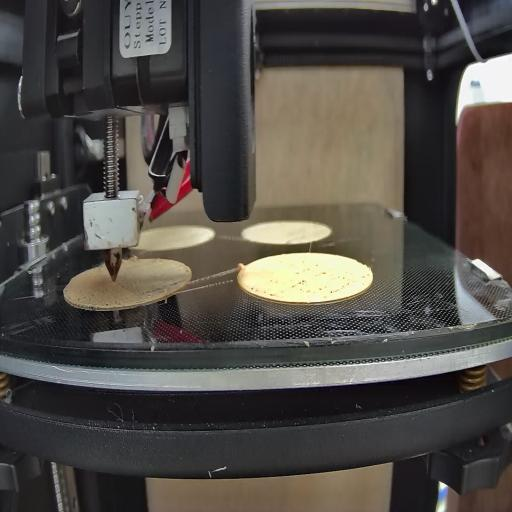under_extrusion: (290, 266, 372, 297), (67, 286, 121, 313), (140, 274, 186, 302), (250, 276, 276, 301)
